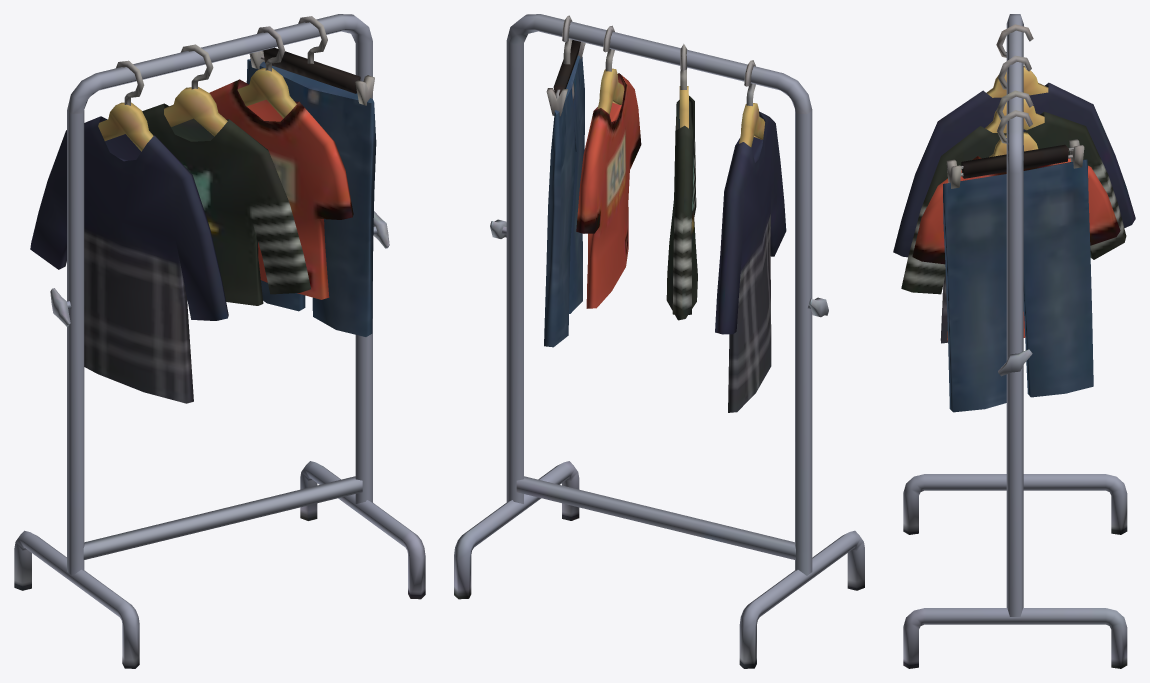
3 renders of one model, left to right at view 1: azimuth 30°, elevation 25°; view 2: azimuth 150°, elevation 25°; view 3: azimuth 270°, elevation 25°, orthographic. The views are drawn at different scales.
Bounding box in the file's own units: 9.93 × 15.98 × 6.62.
1 material, 1 textured.
